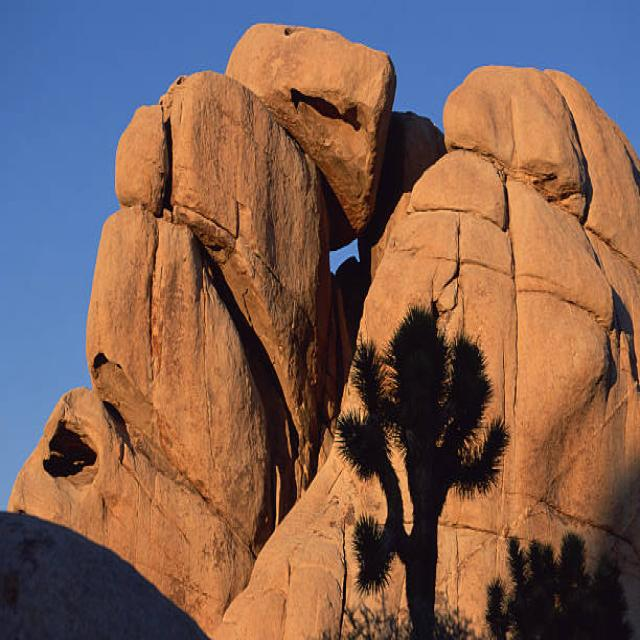Sedimentary: (7, 1, 638, 640)
